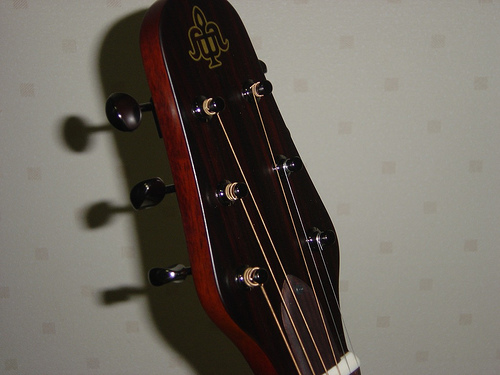guitar: (107, 3, 366, 375)
